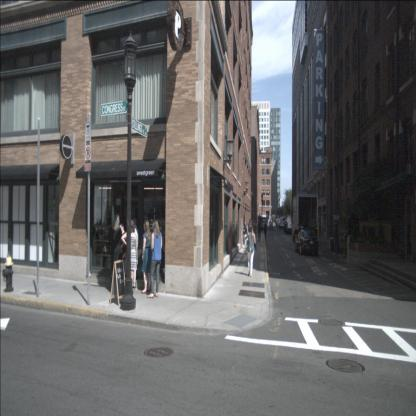human-pedestrian-adult: (147, 218, 163, 299), (121, 219, 138, 290), (108, 214, 124, 289), (141, 219, 153, 294), (117, 223, 128, 282), (245, 224, 256, 277), (242, 221, 249, 249), (257, 218, 262, 242), (247, 218, 252, 241), (253, 219, 257, 241), (264, 223, 267, 241), (269, 219, 271, 230), (271, 219, 273, 230)
vehicle-car: (294, 228, 319, 257), (285, 216, 296, 234), (260, 217, 267, 231), (279, 216, 286, 229), (277, 219, 282, 228)
vehicle-truck: (292, 192, 319, 244)
